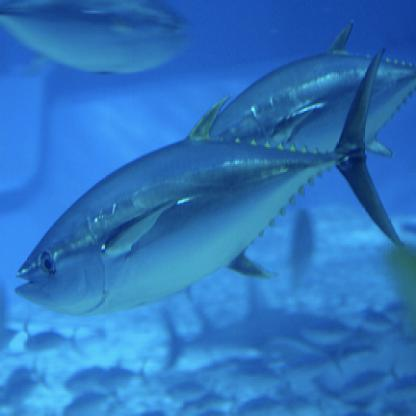Scombridae -Tunas-: (16, 40, 408, 336)
